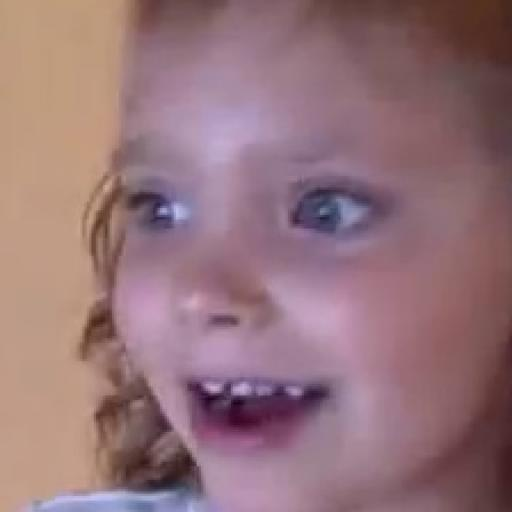Autism: (0, 0, 512, 506)
